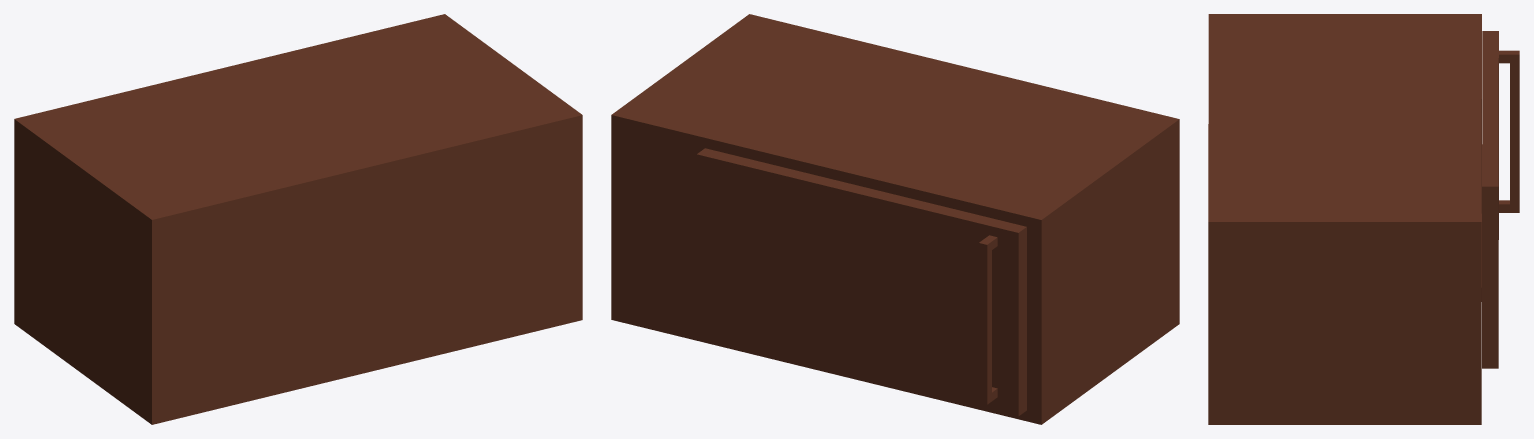
Rendered from Microwave.fbx.
The picture shows the model from 3 angles, left to right: view 1: azimuth 30°, elevation 25°; view 2: azimuth 150°, elevation 25°; view 3: azimuth 270°, elevation 25°; orthographic projection.
Visible parts, largest first — view 1: Microwave; view 2: Microwave; view 3: Microwave.
Part boxes in pixels (x1,y1,x2,y2): Microwave: [14, 14, 582, 424]; Microwave: [611, 14, 1179, 424]; Microwave: [1208, 14, 1519, 424].
Size of the model in its own units: 1.85 by 0.8406 by 1.17.
